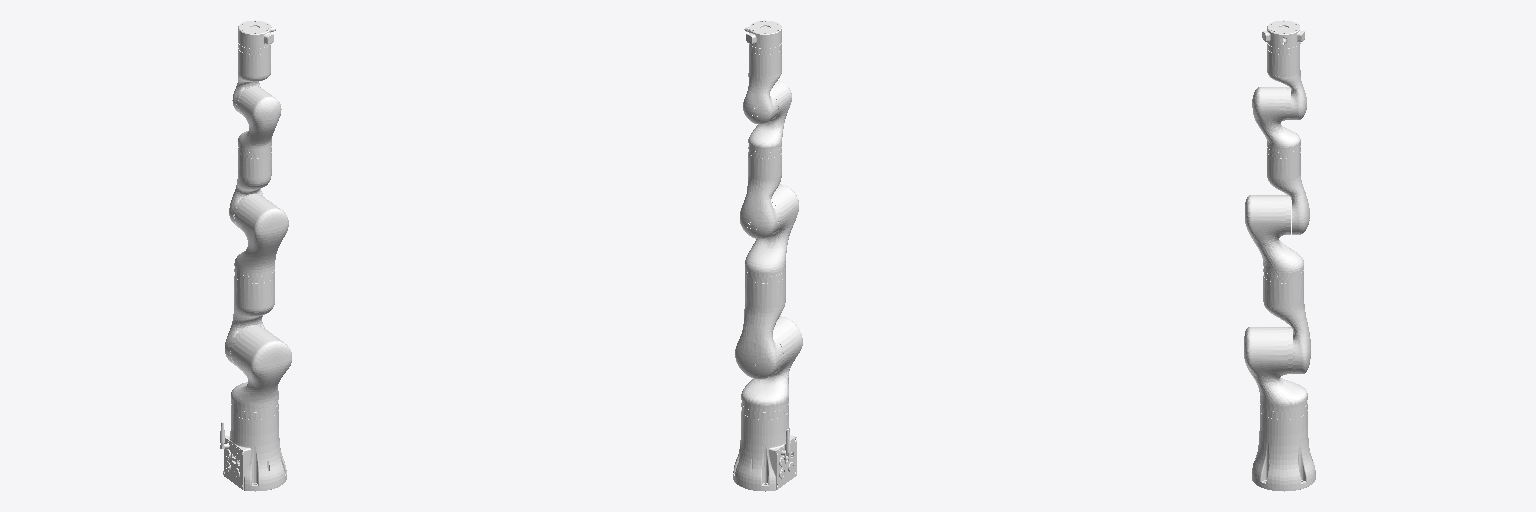
The robot description file, URDF, robot "RM75-B":
<robot name="RM75-B">
  <link name="base_link">
    <inertial>
      <origin xyz="0.00049987 5.2709E-05 0.060019" rpy="0 0 0" />
      <mass value="1.862" />
      <inertia ixx="0.0017232" ixy="-3.1058E-06" ixz="-3.7924E-05" iyy="0.0017051" iyz="1.3691E-06" izz="0.00090158" />
    </inertial>
    <visual>
      <origin xyz="0 0 0" rpy="0 0 0" />
      <geometry>
        <mesh filename="../meshes/base_link.obj" />
      </geometry>
      <material name="">
        <color rgba="1 1 1 1" />
      </material>
    </visual>
    <collision><geometry><mesh filename="../meshes/base_link.obj" />
      </geometry></collision></link>
  <link name="link_1">
    <inertial>
      <origin xyz="0.000241 -0.013273 -0.00995" rpy="0 0 0" />
      <mass value="1.574" />
      <inertia ixx="0.002487573" ixy="0.000009663" ixz="-0.000007909" iyy="0.002321038" iyz="0.000179393" izz="0.001450554" />
    </inertial>
    <visual>
      <origin xyz="0 0 0" rpy="0 0 0" />
      <geometry>
        <mesh filename="../meshes/link_1.obj" />
      </geometry>
      <material name="">
        <color rgba="1 1 1 1" />
      </material>
    </visual>
    <collision><geometry><mesh filename="../meshes/link_1.obj" />
      </geometry></collision></link>
  <joint name="joint_1" type="revolute">
    <origin xyz="0 0 0.2405" rpy="0 0 0" />
    <parent link="base_link" />
    <child link="link_1" />
    <axis xyz="0 0 1" />
    <limit lower="-3.106" upper="3.106" effort="60" velocity="3.14" />
  </joint>
  <link name="link_2">
    <inertial>
      <origin xyz="-0.000357 -0.106789 0.005329" rpy="0 0 0" />
      <mass value="1.217" />
      <inertia ixx="0.003494121" ixy="0.000002921" ixz="-0.000005613" iyy="0.000892721" iyz="-0.000583884" izz="0.003444080" />
    </inertial>
    <visual>
      <origin xyz="0 0 0" rpy="0 0 0" />
      <geometry>
        <mesh filename="../meshes/link_2.obj" />
      </geometry>
      <material name="">
        <color rgba="1 1 1 1" />
      </material>
    </visual>
    <collision><geometry><mesh filename="../meshes/link_2.obj" />
      </geometry></collision></link>
  <joint name="joint_2" type="revolute">
    <origin xyz="0 0 0" rpy="-1.5708 0 0" />
    <parent link="link_1" />
    <child link="link_2" />
    <axis xyz="0 0 1" />
    <limit lower="-2.2689" upper="2.2689" effort="60" velocity="3.14" />
  </joint>
  <link name="link_3">
    <inertial>
      <origin xyz="0.000003 -0.01398 -0.011324" rpy="0 0 0" />
      <mass value="1.11" />
      <inertia ixx="0.001836663" ixy="0.000002259" ixz="-0.000004216" iyy="0.001498875" iyz="0.000037167" izz="0.001062545" />
    </inertial>
    <visual>
      <origin xyz="0 0 0" rpy="0 0 0" />
      <geometry>
        <mesh filename="../meshes/link_3.obj" />
      </geometry>
      <material name="">
        <color rgba="1 1 1 1" />
      </material>
    </visual>
    <collision><geometry><mesh filename="../meshes/link_3.obj" />
      </geometry></collision></link>
  <joint name="joint_3" type="revolute">
    <origin xyz="0 -0.256 0" rpy="1.5708 0 0" />
    <parent link="link_2" />
    <child link="link_3" />
    <axis xyz="0 0 1" />
    <limit lower="-3.106" upper="3.106" effort="30" velocity="3.14" />
  </joint>
  <link name="link_4">
    <inertial>
      <origin xyz="-0.000005 -0.084658 0.004747" rpy="0 0 0" />
      <mass value="0.685" />
      <inertia ixx="0.001282444" ixy="-0.000000551" ixz="-0.000000630" iyy="0.000373013" iyz="-0.000232084" izz="0.001256177" />
    </inertial>
    <visual>
      <origin xyz="0 0 0" rpy="0 0 0" />
      <geometry>
        <mesh filename="../meshes/link_4.obj" />
      </geometry>
      <material name="">
        <color rgba="1 1 1 1" />
      </material>
    </visual>
    <collision><geometry><mesh filename="../meshes/link_4.obj" />
      </geometry></collision></link>
  <joint name="joint_4" type="revolute">
    <origin xyz="0 0 0" rpy="-1.5708 0 0" />
    <parent link="link_3" />
    <child link="link_4" />
    <axis xyz="0 0 1" />
    <limit lower="-2.356" upper="2.356" effort="30" velocity="3.14" />
  </joint>
  <link name="link_5">
    <inertial>
      <origin xyz="0.000078 -0.012937 -0.008781" rpy="0 0 0" />
      <mass value="0.619" />
      <inertia ixx="0.000627336" ixy="0.000001636" ixz="-0.000001345" iyy="0.000542455" iyz="0.000034970" izz="0.000370291" />
    </inertial>
    <visual>
      <origin xyz="0 0 0" rpy="0 0 0" />
      <geometry>
        <mesh filename="../meshes/link_5.obj" />
      </geometry>
      <material name="">
        <color rgba="1 1 1 1" />
      </material>
    </visual>
    <collision><geometry><mesh filename="../meshes/link_5.obj" />
      </geometry></collision></link>
  <joint name="joint_5" type="revolute">
    <origin xyz="0 -0.21 0" rpy="1.5708 0 0" />
    <parent link="link_4" />
    <child link="link_5" />
    <axis xyz="0 0 1" />
    <limit lower="-3.106" upper="3.106" effort="10" velocity="3.14" />
  </joint>
  <link name="link_6">
    <inertial>
      <origin xyz="-0.000014 -0.078524 0.002819" rpy="0 0 0" />
      <mass value="0.602" />
      <inertia ixx="0.000780774" ixy="-0.000000121" ixz="-0.000000469" iyy="0.000289973" iyz="-0.000120513" izz="0.000763955" />
    </inertial>
    <visual>
      <origin xyz="0 0 0" rpy="0 0 0" />
      <geometry>
        <mesh filename="../meshes/link_6.obj" />
      </geometry>
      <material name="">
        <color rgba="1 1 1 1" />
      </material>
    </visual>
    <collision><geometry><mesh filename="../meshes/link_6.obj" />
      </geometry></collision></link>
  <joint name="joint_6" type="revolute">
    <origin xyz="0 0 0" rpy="-1.5708 0 0" />
    <parent link="link_5" />
    <child link="link_6" />
    <axis xyz="0 0 1" />
    <limit lower="-2.234" upper="2.234" effort="10" velocity="3.14" />
  </joint>
  <link name="link_7">
    <inertial>
      <origin xyz="0.001094 -0.000077 -0.010119" rpy="0 0 0" />
      <mass value="0.107" />
      <inertia ixx="0.000044123" ixy="-0.000000064" ixz="0.0000003" iyy="0.000035078" iyz="-0.000000029" izz="0.000065445" />
    </inertial>
    <visual>
      <origin xyz="0 0 0" rpy="0 0 0" />
      <geometry>
        <mesh filename="../meshes/link_7.obj" />
      </geometry>
      <material name="">
        <color rgba="1 1 1 1" />
      </material>
    </visual>
    <collision><geometry><mesh filename="../meshes/link_7.obj" />
      </geometry></collision></link>
  <joint name="joint_7" type="revolute">
    <origin xyz="0 -0.144 0" rpy="1.5708 0 0" />
    <parent link="link_6" />
    <child link="link_7" />
    <axis xyz="0 0 1" />
    <limit lower="-6.28" upper="6.28" effort="10" velocity="3.14" />
  </joint>
</robot>

--- Facts derived from the render (not from the file) ---
3 views of the same robot in one strip: view 1: azimuth 30°, elevation 25°; view 2: azimuth 150°, elevation 25°; view 3: azimuth 270°, elevation 25° (orthographic).
Model RM75-B with 8 links and 7 joints (7 revolute), rooted at base_link, posed every joint at zero.
Visible links, largest first — view 1: base_link, link_1, link_3, link_5, link_2, link_4, link_6, link_7; view 2: base_link, link_2, link_4, link_1, link_3, link_6, link_5, link_7; view 3: base_link, link_1, link_3, link_2, link_5, link_4, link_6, link_7.
Boxes of the visible links, left/top/right/bottom form: base_link: left=220, top=406, right=286, bottom=491; link_1: left=230, top=325, right=291, bottom=414; link_3: left=234, top=194, right=288, bottom=277; link_5: left=237, top=85, right=281, bottom=153; link_2: left=225, top=270, right=274, bottom=365; link_4: left=229, top=148, right=271, bottom=227; link_6: left=232, top=44, right=270, bottom=112; link_7: left=238, top=20, right=275, bottom=49; base_link: left=733, top=405, right=796, bottom=491; link_2: left=735, top=271, right=785, bottom=379; link_4: left=740, top=148, right=781, bottom=238; link_1: left=741, top=316, right=802, bottom=414; link_3: left=745, top=184, right=798, bottom=277; link_6: left=743, top=45, right=781, bottom=124; link_5: left=748, top=80, right=791, bottom=153; link_7: left=744, top=20, right=781, bottom=49; base_link: left=1252, top=406, right=1315, bottom=491; link_1: left=1244, top=327, right=1307, bottom=414; link_3: left=1245, top=195, right=1303, bottom=277; link_2: left=1263, top=270, right=1310, bottom=373; link_5: left=1252, top=87, right=1300, bottom=153; link_4: left=1267, top=148, right=1309, bottom=234; link_6: left=1267, top=45, right=1306, bottom=119; link_7: left=1262, top=20, right=1304, bottom=49.
Bounding box of the posed robot: 0.1143 × 0.123 × 0.8505 m (x, y, z).
Meshes: 8 distinct files referenced, 8 mesh visuals loaded (8 OBJ).
